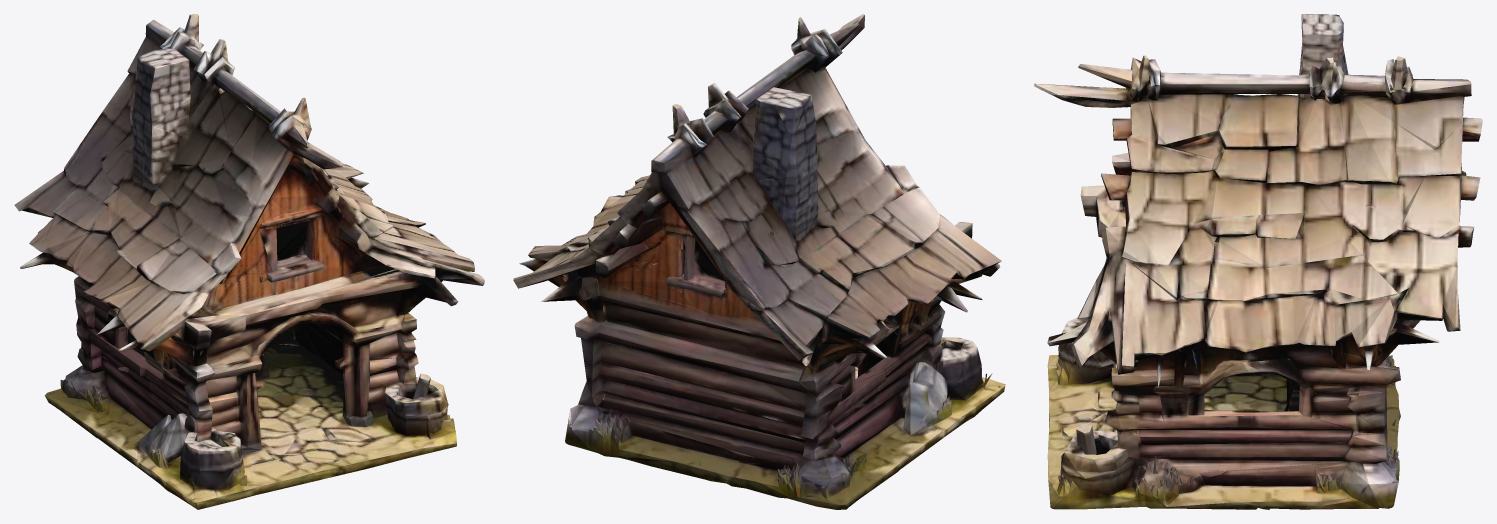
File: orc_smithy_ruin_01.glb
The picture shows the model from 3 angles, left to right: view 1: azimuth 30°, elevation 25°; view 2: azimuth 150°, elevation 25°; view 3: azimuth 270°, elevation 25°; orthographic projection. The views are drawn at different scales.
Parts seen in each view (by area): view 1: geometry_0; view 2: geometry_0; view 3: geometry_0.
Part boxes in pixels (<box>): geometry_0: <box>14,14,484,509</box>; geometry_0: <box>513,14,1005,509</box>; geometry_0: <box>1034,14,1482,509</box>.
Bounding box in the file's own units: 1 × 0.9597 × 0.9911.
1 material, 1 textured.
